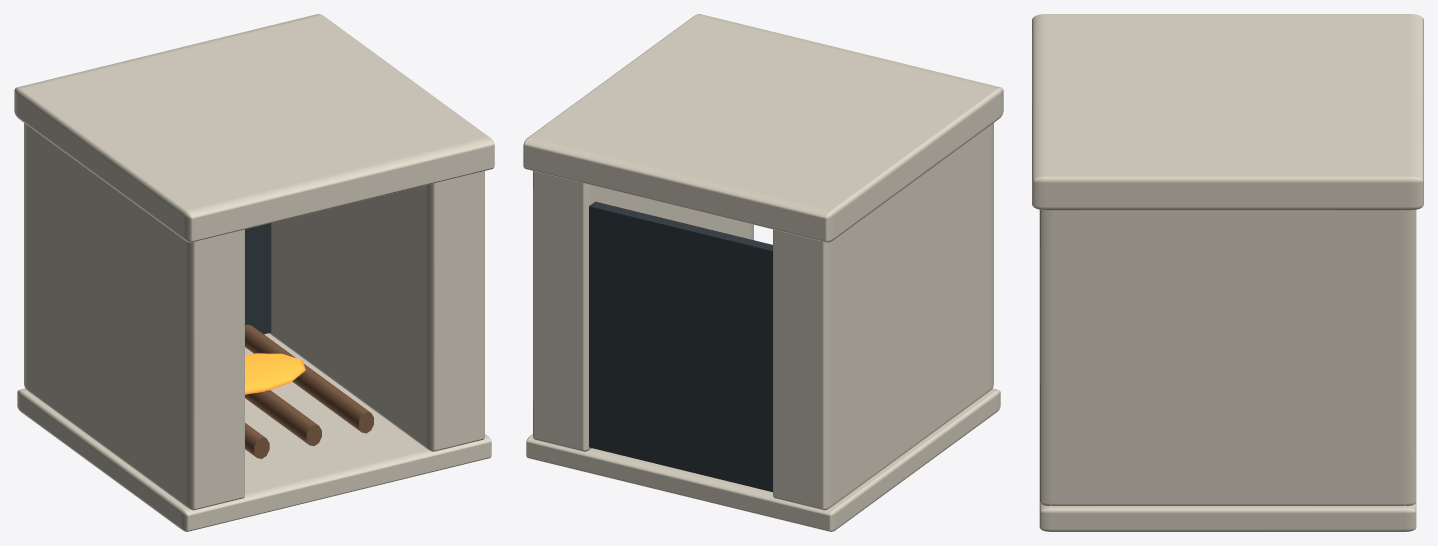
Rendered from studio-fireplace-stone.glb.
3 views of the same model, side by side, from view 1: azimuth 30°, elevation 25°; view 2: azimuth 150°, elevation 25°; view 3: azimuth 270°, elevation 25° (orthographic). The views are drawn at different scales.
Parts seen in each view (by area): view 1: upholstery (×2), part (×2); view 2: upholstery (×2); view 3: upholstery.
Boxes of the visible parts, x1,y1,x2,y2 form: upholstery (×2): (14, 14, 494, 531); part (×2): (245, 324, 373, 458); upholstery (×2): (523, 14, 1003, 531); upholstery: (1032, 14, 1423, 531).
Bounding box in the file's own units: 1 × 1 × 1.
